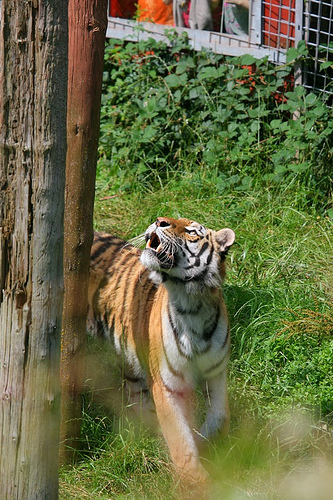Tigre: (99, 208, 259, 481)
